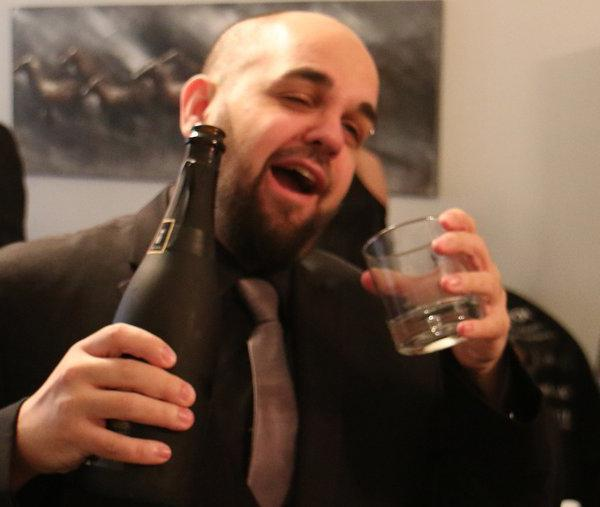Drunk: (240, 27, 366, 242)
